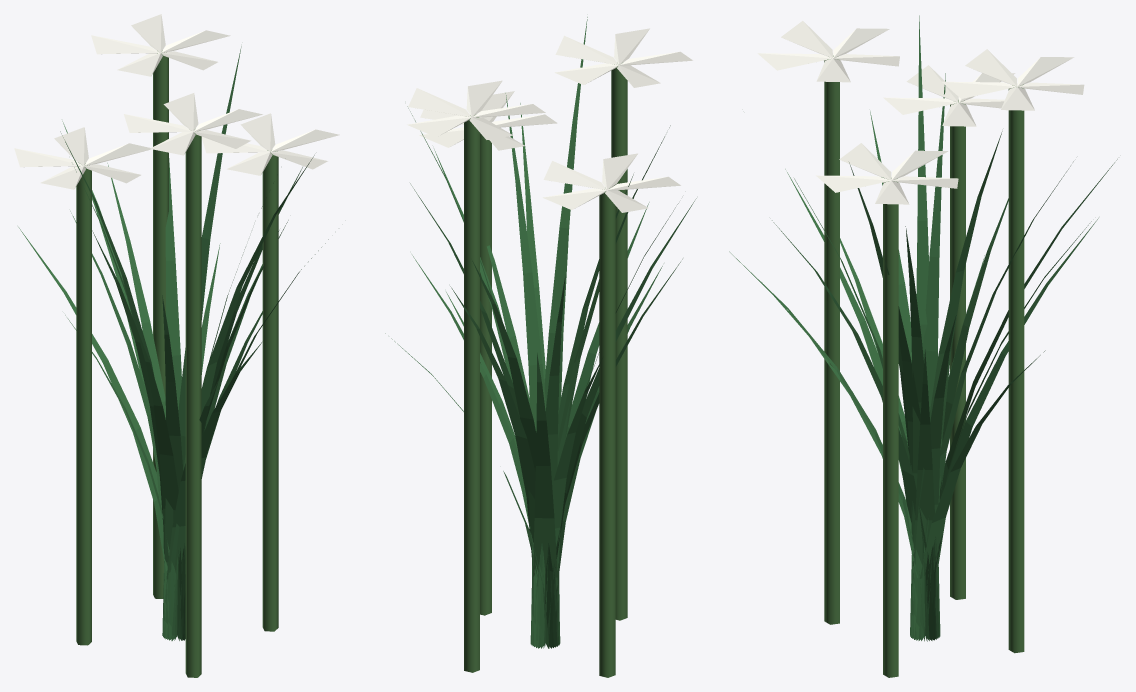
Rendered from hymenocallis-littoralis.glb.
3 views of the same model, side by side, from view 1: azimuth 30°, elevation 25°; view 2: azimuth 150°, elevation 25°; view 3: azimuth 270°, elevation 25° (orthographic). The views are drawn at different scales.
Visible parts, largest first — view 1: Lily flower stems, Zephyr lily strap leaves, Lily flowers; view 2: Lily flower stems, Zephyr lily strap leaves, Lily flowers; view 3: Lily flower stems, Zephyr lily strap leaves, Lily flowers.
Part boxes in pixels (x1,y1,x2,y2): Lily flower stems: (76, 50, 278, 677); Zephyr lily strap leaves: (18, 46, 328, 640); Lily flowers: (14, 14, 339, 189); Lily flower stems: (464, 64, 627, 677); Zephyr lily strap leaves: (385, 17, 696, 648); Lily flowers: (407, 28, 692, 212); Lily flower stems: (824, 55, 1024, 677); Zephyr lily strap leaves: (729, 15, 1117, 641); Lily flowers: (757, 21, 1084, 204).
Size of the model in its own units: 0.1508 by 0.2892 by 0.1811.
